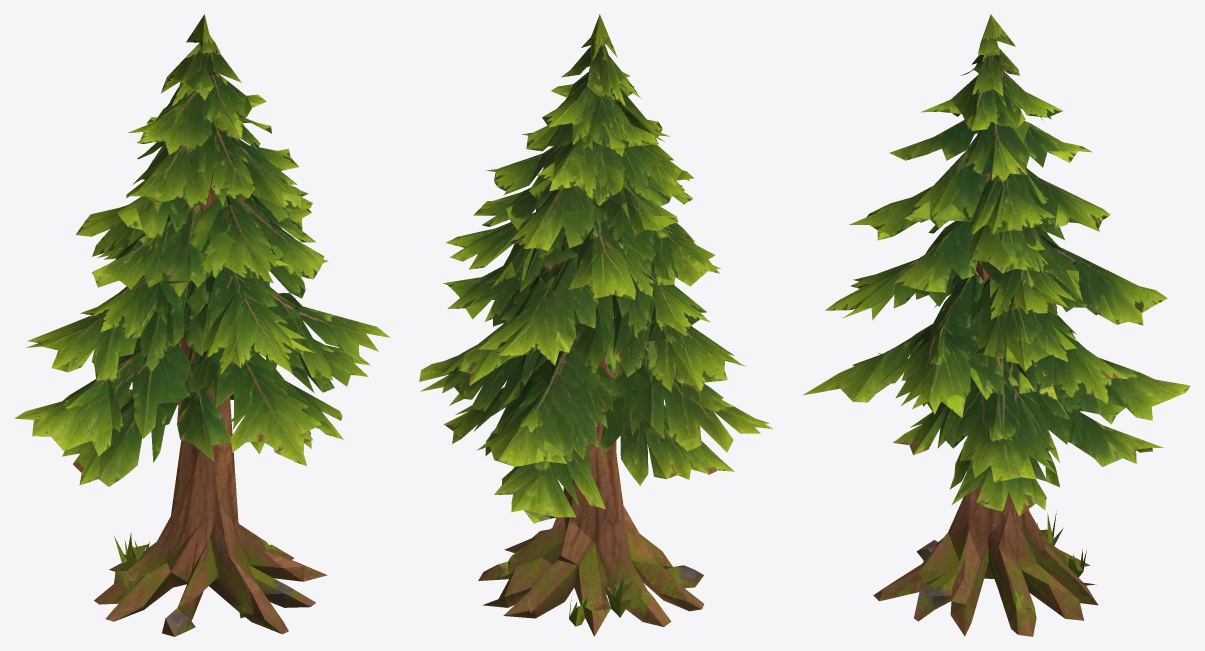
The model's file is evergreen_b4.glb.
3 renders of one model, left to right at view 1: azimuth 30°, elevation 25°; view 2: azimuth 150°, elevation 25°; view 3: azimuth 270°, elevation 25°, orthographic.
Parts seen in each view (by area): view 1: output_unwrapped; view 2: output_unwrapped; view 3: output_unwrapped.
Boxes of the visible parts, x1,y1,x2,y2 form: output_unwrapped: (14, 14, 390, 636); output_unwrapped: (419, 14, 772, 636); output_unwrapped: (803, 14, 1190, 636).
Size of the model in its own units: 1.18 by 1.9 by 1.17.
1 material, 1 textured.
